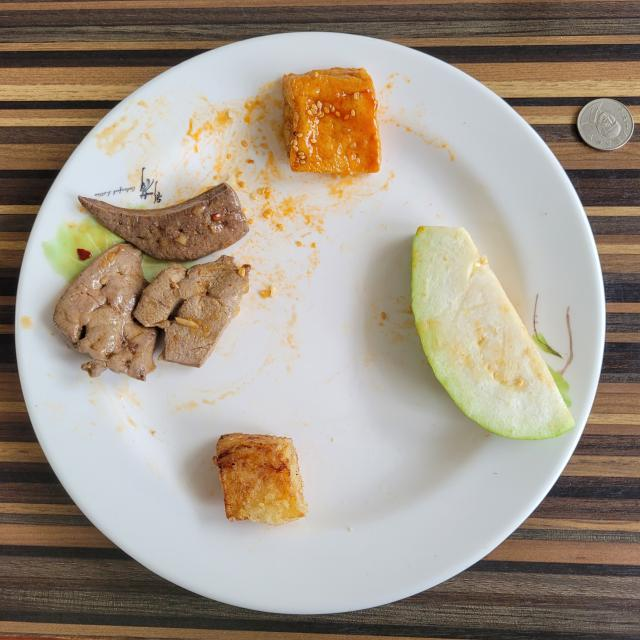coin: (578, 99, 634, 150)
creamy tofu: (282, 68, 381, 175)
fried potato: (212, 432, 308, 525)
guava -sliced-: (411, 226, 575, 440)
pig liver: (54, 182, 250, 380)
